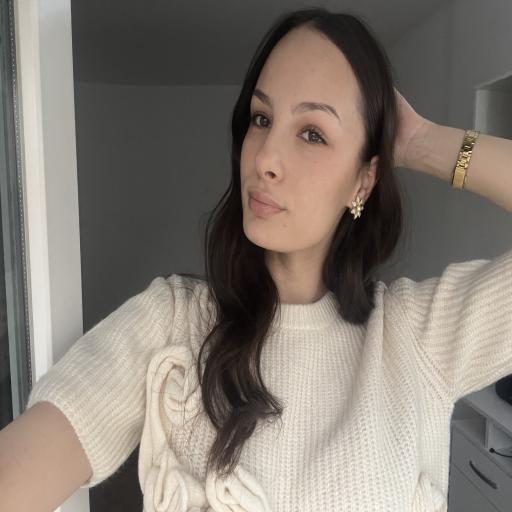marija: (238, 30, 364, 250)
